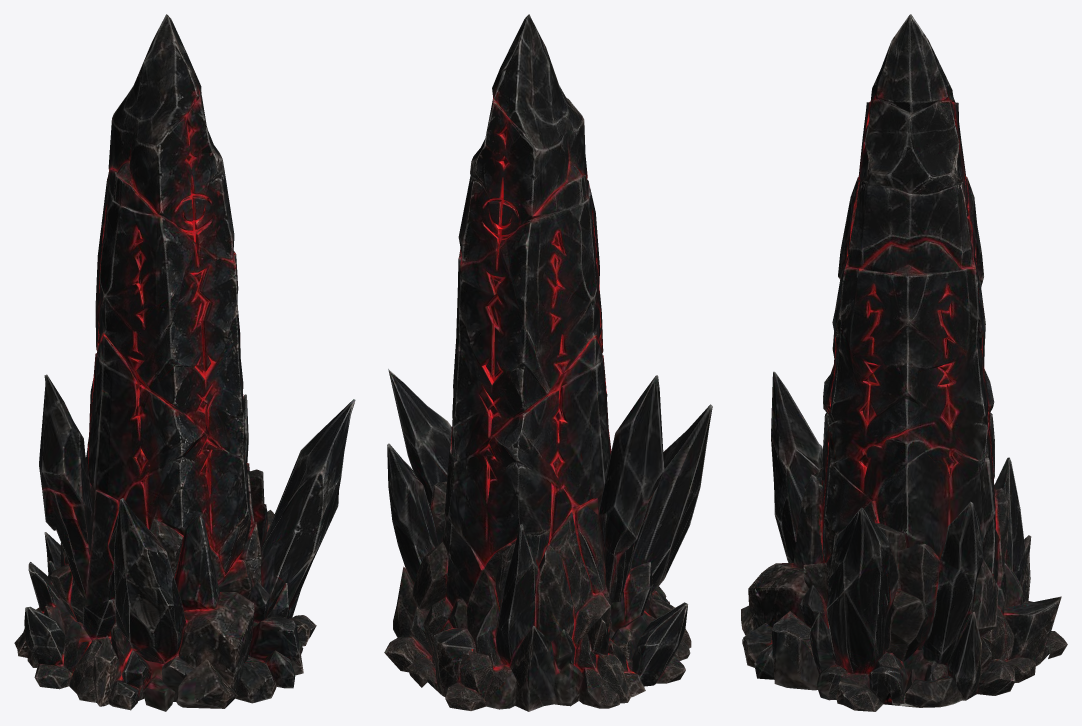
Rendered from obelisk.glb.
3 views of the same model, side by side, from view 1: azimuth 30°, elevation 25°; view 2: azimuth 150°, elevation 25°; view 3: azimuth 270°, elevation 25° (orthographic).
Parts seen in each view (by area): view 1: output_unwrapped; view 2: output_unwrapped; view 3: output_unwrapped.
Boxes of the visible parts, x1=… form: output_unwrapped: x1=14, y1=14, x2=355, y2=711; output_unwrapped: x1=384, y1=14, x2=712, y2=711; output_unwrapped: x1=741, y1=14, x2=1067, y2=711.
Size of the model in its own units: 0.9874 by 1.9 by 0.881.
1 material, 1 textured.
